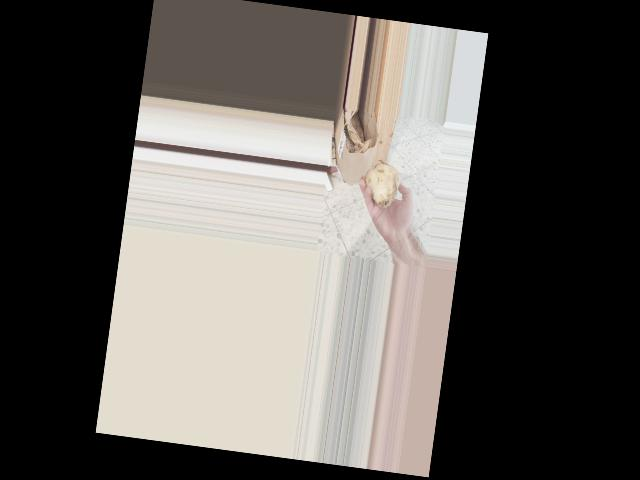onion: (359, 158, 405, 213)
